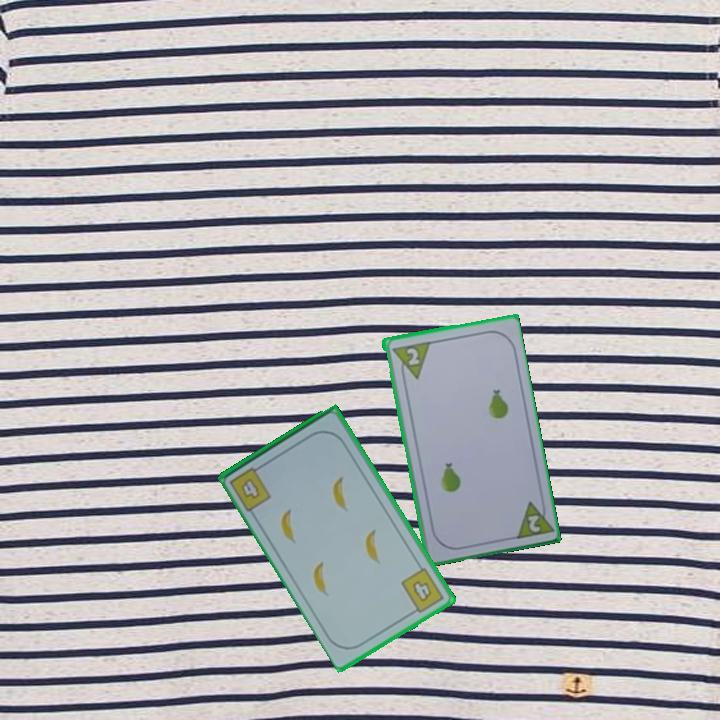2p: (402, 344, 422, 368), (524, 511, 543, 535)
4b: (397, 564, 447, 618), (226, 461, 274, 514)
